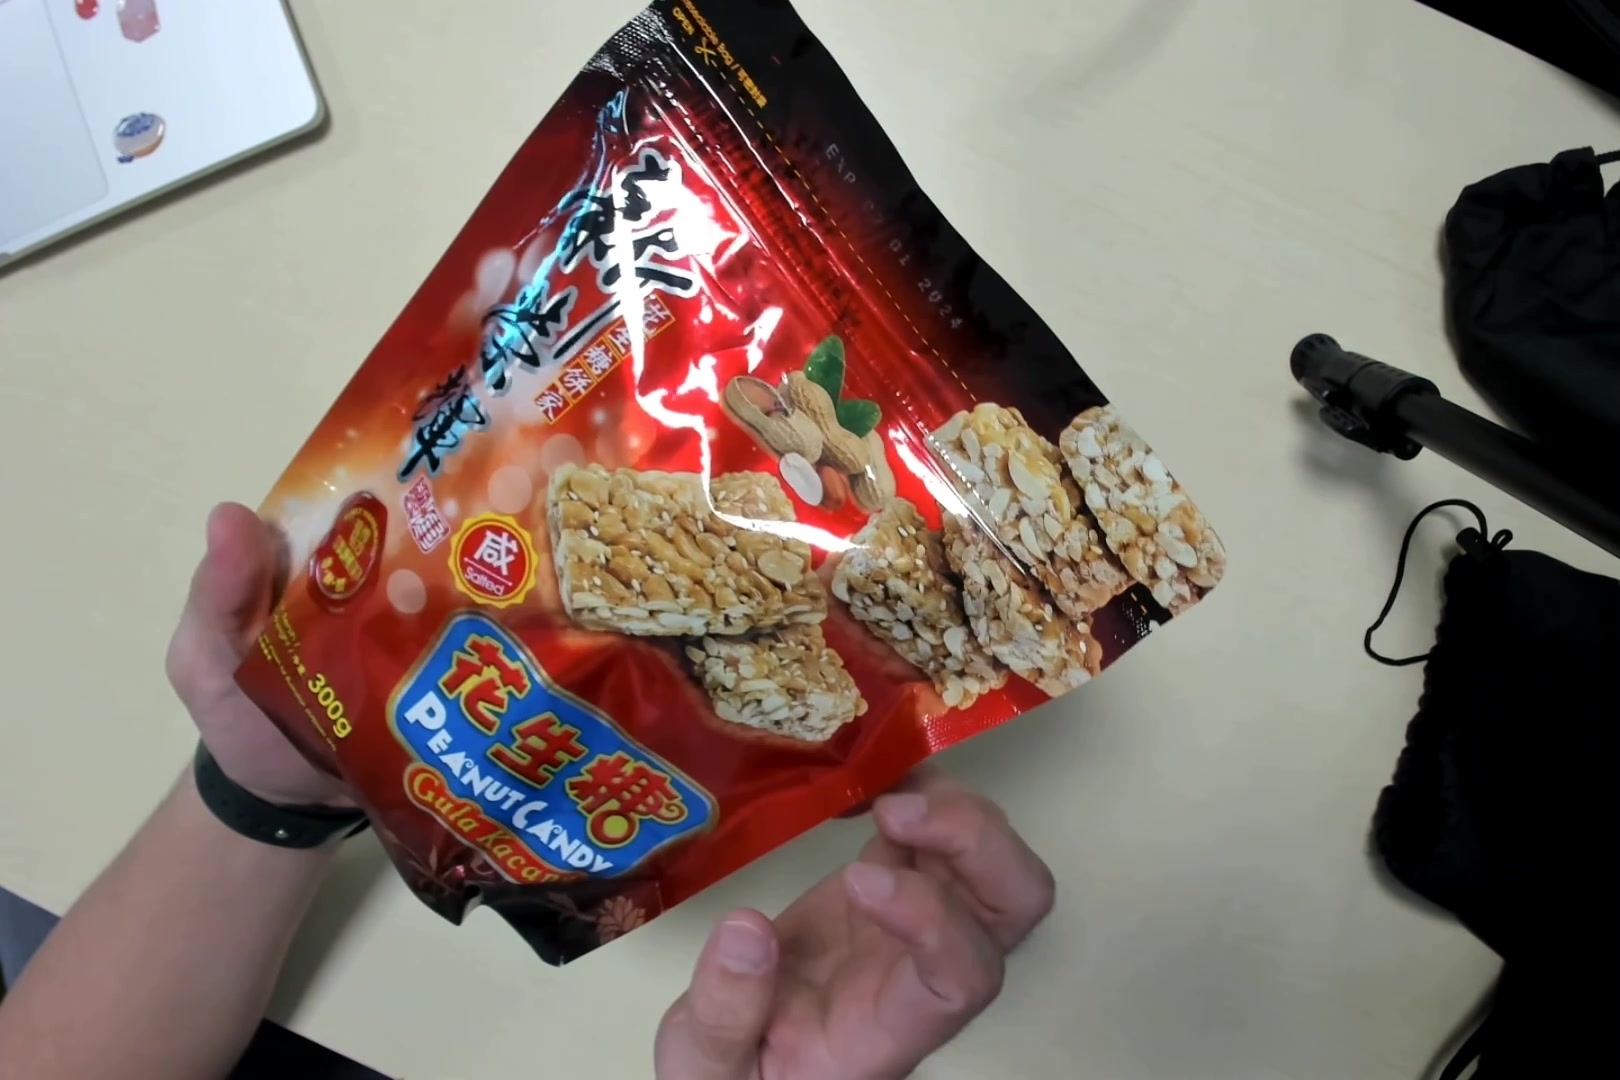SweetsChocolatesOthers_300-399g_NonHalal_NonHealthy: (213, 10, 1227, 970)
